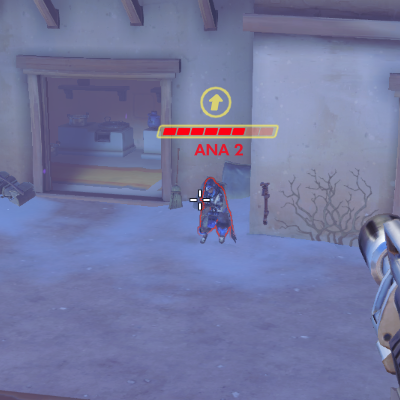hpbar: (162, 127, 274, 136)
